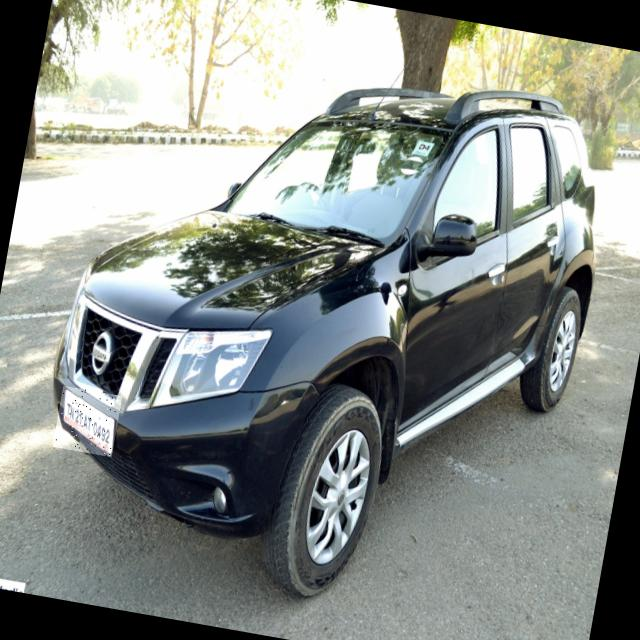Plate: (53, 387, 123, 458)
